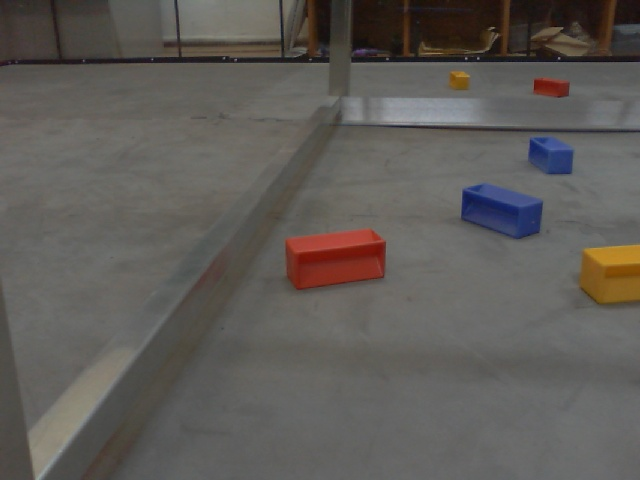BlueSample: (460, 180, 544, 242), (527, 134, 575, 177)
RedSample: (281, 227, 390, 288), (530, 75, 572, 98)
YellowSample: (581, 236, 640, 305), (448, 70, 472, 90)
